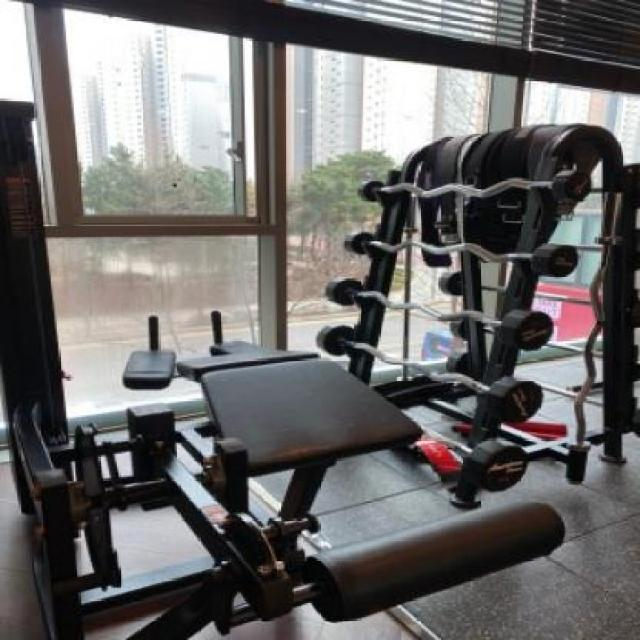reg curl machine: (0, 94, 572, 640)
